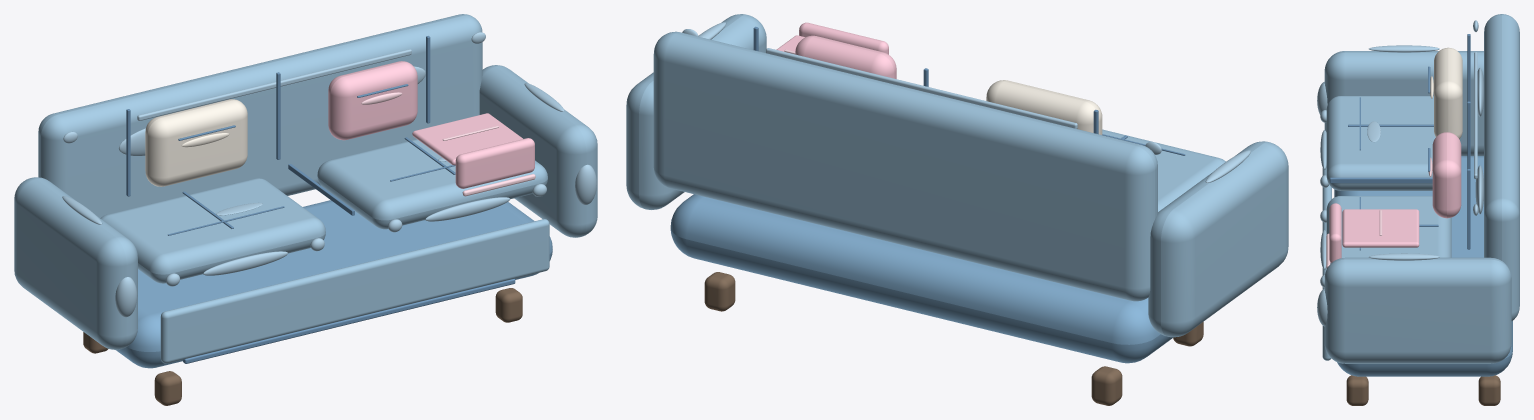
Rendered from 目标图精修海蓝沙发.fbx.
3 views of the same model, side by side, from view 1: azimuth 30°, elevation 25°; view 2: azimuth 150°, elevation 25°; view 3: azimuth 270°, elevation 25° (orthographic). The views are drawn at different scales.
Visible parts, largest first — view 1: 目标图精修海蓝沙发_v230_后靠背浅蓝软包外壳, 目标图精修海蓝沙发_v230_前侧浅蓝垂布裙, 目标图精修海蓝沙发_v230_左圆软扶手浅蓝套布, 目标图精修海蓝沙发_v230_低矮整包布艺底座, 目标图精修海蓝沙发_v230_浅蓝独立坐垫, 目标图精修海蓝沙发_v230_浅蓝独立坐垫.001, 目标图精修海蓝沙发_v230_右圆软扶手浅蓝套布, 目标图精修海蓝沙发_v230_奶油抱枕软方包, 目标图精修海蓝沙发_v230_粉色抱枕软方包, 目标图精修海蓝沙发_v230_粉色搭毯座面, 目标图精修海蓝沙发_v230_粉色搭毯垂边, 目标图精修海蓝沙发_v230_底部低调贴地暗边 (+8 smaller); view 2: 目标图精修海蓝沙发_v230_后靠背浅蓝软包外壳, 目标图精修海蓝沙发_v230_低矮整包布艺底座, 目标图精修海蓝沙发_v230_左圆软扶手浅蓝套布, 目标图精修海蓝沙发_v230_右圆软扶手浅蓝套布, 目标图精修海蓝沙发_v230_奶油抱枕软方包, 目标图精修海蓝沙发_v230_浅蓝独立坐垫, 目标图精修海蓝沙发_v230_粉色抱枕软方包, 目标图精修海蓝沙发_v230_靠背上沿浅蓝滚边, 目标图精修海蓝沙发_v230_更短木脚.003, 目标图精修海蓝沙发_v230_更短木脚.001, 目标图精修海蓝沙发_v230_粉色搭毯垂边; view 3: 目标图精修海蓝沙发_v230_右圆软扶手浅蓝套布, 目标图精修海蓝沙发_v230_后靠背浅蓝软包外壳, 目标图精修海蓝沙发_v230_浅蓝独立坐垫, 目标图精修海蓝沙发_v230_左圆软扶手浅蓝套布, 目标图精修海蓝沙发_v230_低矮整包布艺底座, 目标图精修海蓝沙发_v230_浅蓝独立坐垫.001, 目标图精修海蓝沙发_v230_粉色搭毯座面, 目标图精修海蓝沙发_v230_奶油抱枕软方包, 目标图精修海蓝沙发_v230_粉色抱枕软方包, 目标图精修海蓝沙发_v230_粉色搭毯垂边, 目标图精修海蓝沙发_v230_中间坐垫软暗缝, 目标图精修海蓝沙发_v230_更短木脚.002 (+16 smaller).
Part boxes in pixels (bbox=[...]): 目标图精修海蓝沙发_v230_后靠背浅蓝软包外壳: bbox=[38, 14, 482, 217]; 目标图精修海蓝沙发_v230_前侧浅蓝垂布裙: bbox=[160, 219, 549, 363]; 目标图精修海蓝沙发_v230_左圆软扶手浅蓝套布: bbox=[14, 177, 137, 349]; 目标图精修海蓝沙发_v230_低矮整包布艺底座: bbox=[116, 200, 552, 368]; 目标图精修海蓝沙发_v230_浅蓝独立坐垫: bbox=[100, 178, 325, 283]; 目标图精修海蓝沙发_v230_浅蓝独立坐垫.001: bbox=[317, 139, 547, 229]; 目标图精修海蓝沙发_v230_右圆软扶手浅蓝套布: bbox=[479, 65, 597, 237]; 目标图精修海蓝沙发_v230_奶油抱枕软方包: bbox=[145, 99, 247, 186]; 目标图精修海蓝沙发_v230_粉色抱枕软方包: bbox=[328, 61, 417, 140]; 目标图精修海蓝沙发_v230_粉色搭毯座面: bbox=[412, 113, 522, 165]; 目标图精修海蓝沙发_v230_粉色搭毯垂边: bbox=[455, 138, 534, 188]; 目标图精修海蓝沙发_v230_底部低调贴地暗边: bbox=[183, 279, 515, 363]; 目标图精修海蓝沙发_v230_后靠背浅蓝软包外壳: bbox=[653, 31, 1157, 301]; 目标图精修海蓝沙发_v230_低矮整包布艺底座: bbox=[670, 194, 1173, 363]; 目标图精修海蓝沙发_v230_左圆软扶手浅蓝套布: bbox=[1148, 141, 1288, 337]; 目标图精修海蓝沙发_v230_右圆软扶手浅蓝套布: bbox=[626, 14, 766, 209]; 目标图精修海蓝沙发_v230_奶油抱枕软方包: bbox=[986, 80, 1102, 134]; 目标图精修海蓝沙发_v230_浅蓝独立坐垫: bbox=[1102, 129, 1225, 211]; 目标图精修海蓝沙发_v230_粉色抱枕软方包: bbox=[795, 35, 896, 78]; 目标图精修海蓝沙发_v230_靠背上沿浅蓝滚边: bbox=[766, 48, 1077, 128]; 目标图精修海蓝沙发_v230_更短木脚.003: bbox=[704, 272, 735, 311]; 目标图精修海蓝沙发_v230_更短木脚.001: bbox=[1091, 366, 1122, 405]; 目标图精修海蓝沙发_v230_粉色搭毯垂边: bbox=[799, 22, 888, 54]; 目标图精修海蓝沙发_v230_右圆软扶手浅蓝套布: bbox=[1324, 257, 1511, 363]; 目标图精修海蓝沙发_v230_后靠背浅蓝软包外壳: bbox=[1484, 14, 1519, 320]; 目标图精修海蓝沙发_v230_浅蓝独立坐垫: bbox=[1326, 96, 1435, 190]; 目标图精修海蓝沙发_v230_左圆软扶手浅蓝套布: bbox=[1324, 51, 1483, 155]; 目标图精修海蓝沙发_v230_低矮整包布艺底座: bbox=[1334, 156, 1512, 376]; 目标图精修海蓝沙发_v230_浅蓝独立坐垫.001: bbox=[1326, 196, 1451, 263]; 目标图精修海蓝沙发_v230_粉色搭毯座面: bbox=[1342, 209, 1419, 247]; 目标图精修海蓝沙发_v230_奶油抱枕软方包: bbox=[1434, 47, 1462, 138]; 目标图精修海蓝沙发_v230_粉色抱枕软方包: bbox=[1432, 132, 1461, 218]; 目标图精修海蓝沙发_v230_粉色搭毯垂边: bbox=[1329, 203, 1341, 262]; 目标图精修海蓝沙发_v230_中间坐垫软暗缝: bbox=[1330, 177, 1432, 183]; 目标图精修海蓝沙发_v230_更短木脚.002: bbox=[1346, 375, 1368, 405].
Size of the model in its own units: 193 by 90.25 by 73.7.
